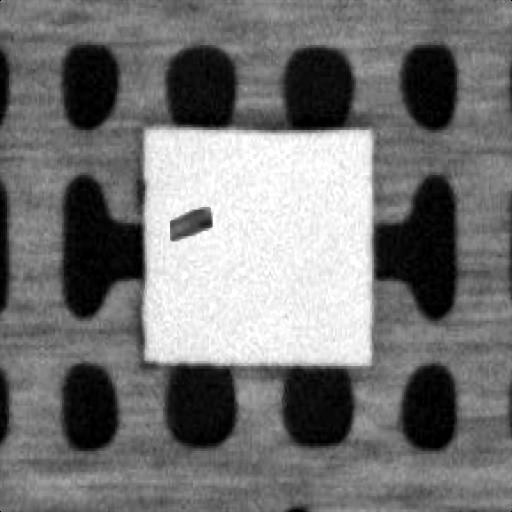DIE_INK: (244, 133, 318, 161)
